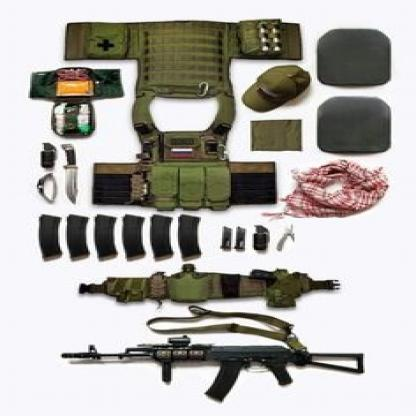Grenade: (39, 140, 58, 170), (252, 223, 271, 251)
Gun: (58, 335, 366, 403)
Knife: (59, 142, 81, 206)
